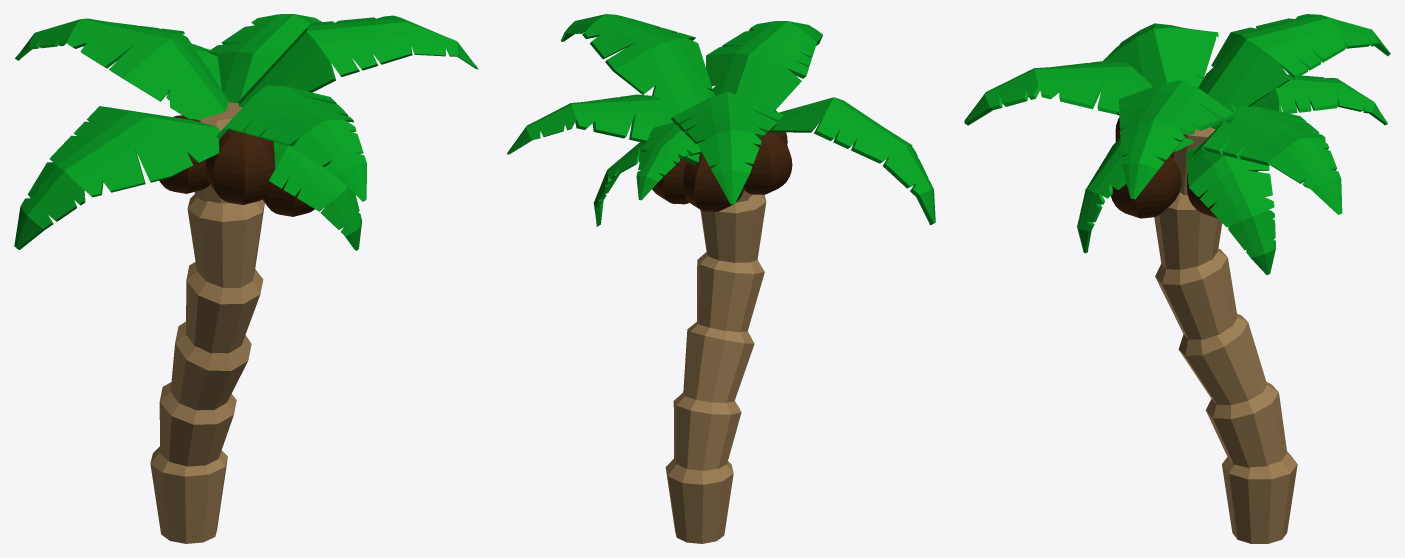
File:  palm tree.fbx
The picture shows the model from 3 angles, left to right: view 1: azimuth 30°, elevation 25°; view 2: azimuth 150°, elevation 25°; view 3: azimuth 270°, elevation 25°; orthographic projection. The views are drawn at different scales.
Visible parts, largest first — view 1: Cylinder.005; view 2: Cylinder.005; view 3: Cylinder.005.
Part boxes in pixels (x1,y1,x2,y2): Cylinder.005: [14, 14, 478, 543]; Cylinder.005: [507, 14, 935, 543]; Cylinder.005: [964, 14, 1390, 543].
Size of the model in its own units: 1293 by 1423 by 1125.
